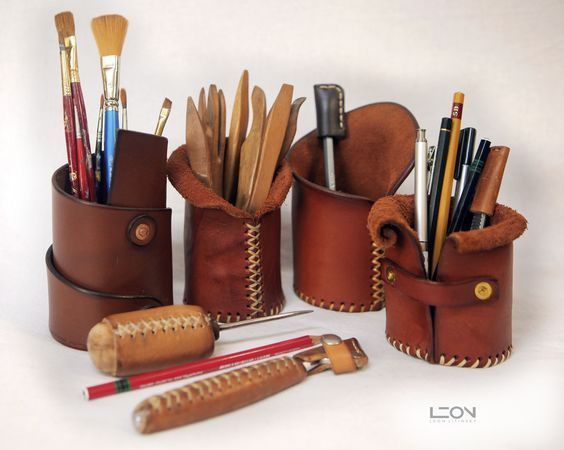cuero: (47, 102, 515, 434)
